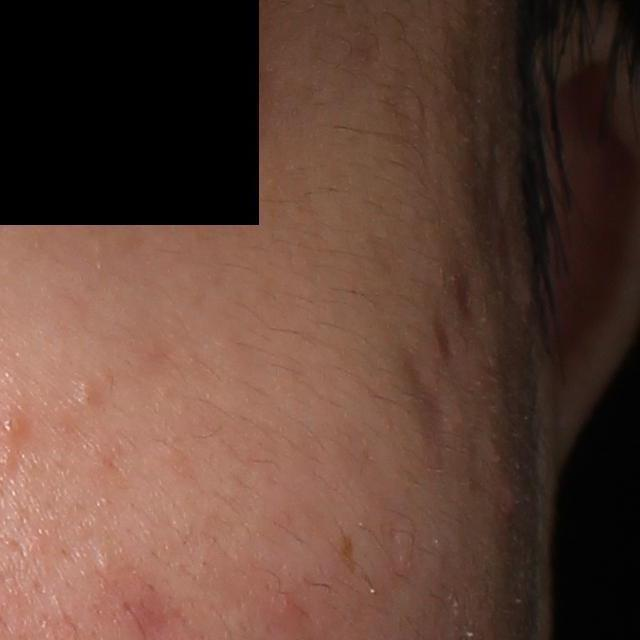atrophic_scar: (394, 346, 457, 464)
comedo: (75, 382, 98, 406)
melasma: (336, 528, 358, 571)
